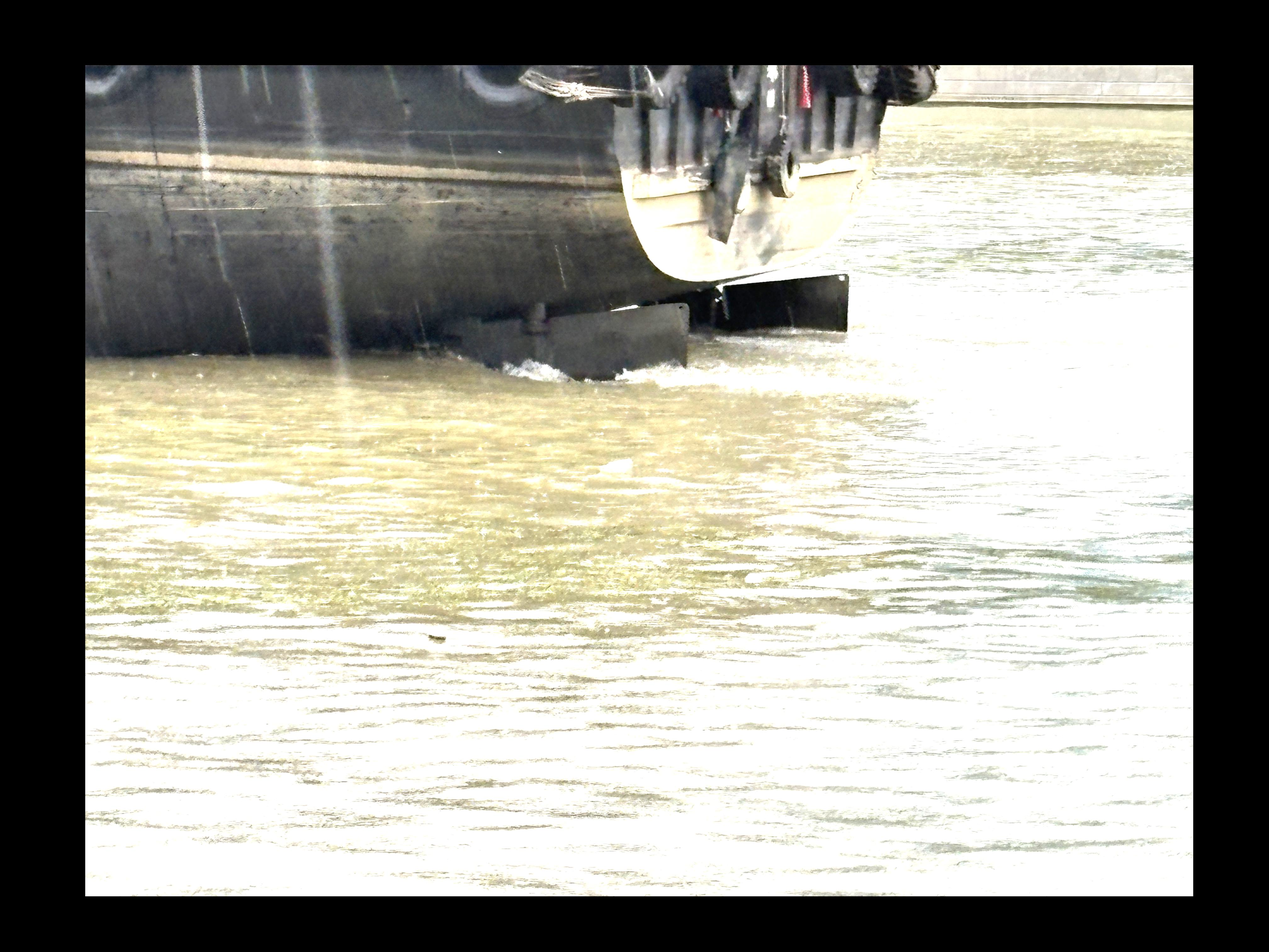Plastic wastes: (740, 564, 806, 582), (597, 456, 635, 474), (425, 630, 446, 643)
